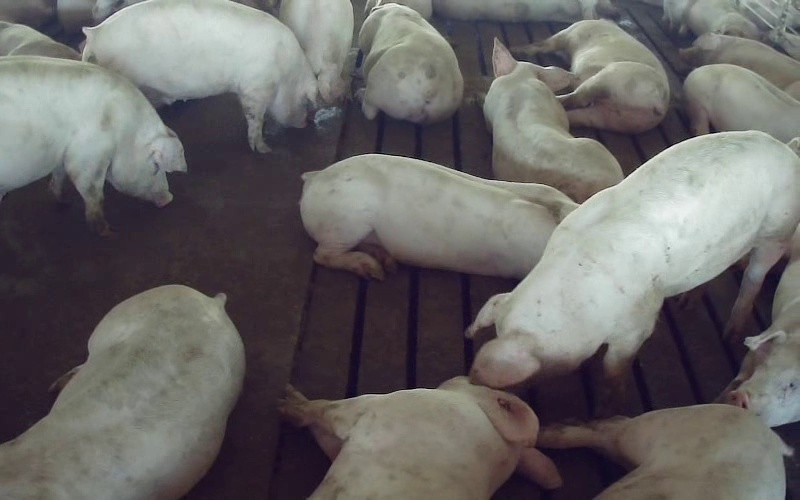pig: (470, 131, 799, 387), (0, 285, 243, 499), (83, 0, 316, 152), (300, 154, 576, 279), (279, 377, 560, 499), (538, 404, 791, 499), (483, 38, 623, 202), (512, 19, 669, 132), (718, 225, 799, 426), (359, 3, 462, 123), (683, 64, 799, 142), (679, 33, 799, 99), (279, 0, 353, 105)
